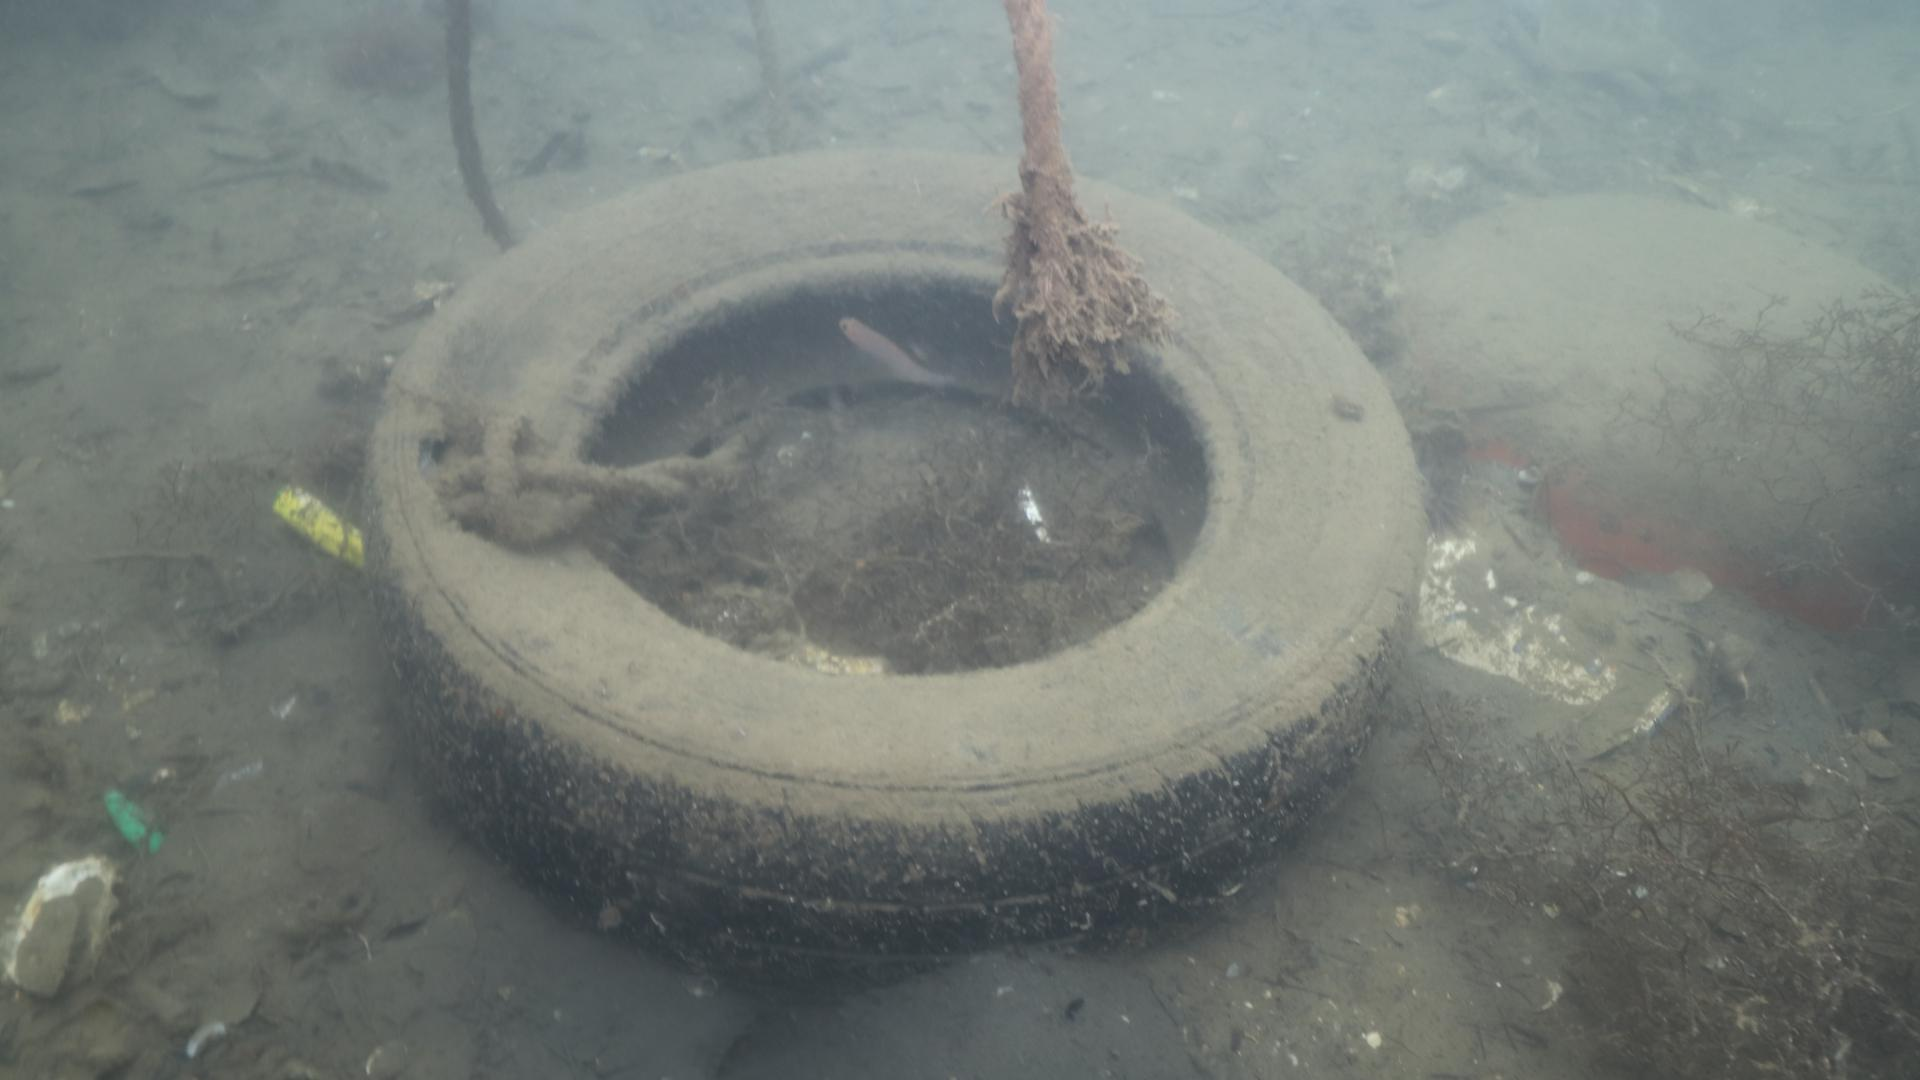bundle of ropes: (444, 411, 757, 549)
rope: (1005, 0, 1062, 164)
tire: (357, 142, 1429, 989)
